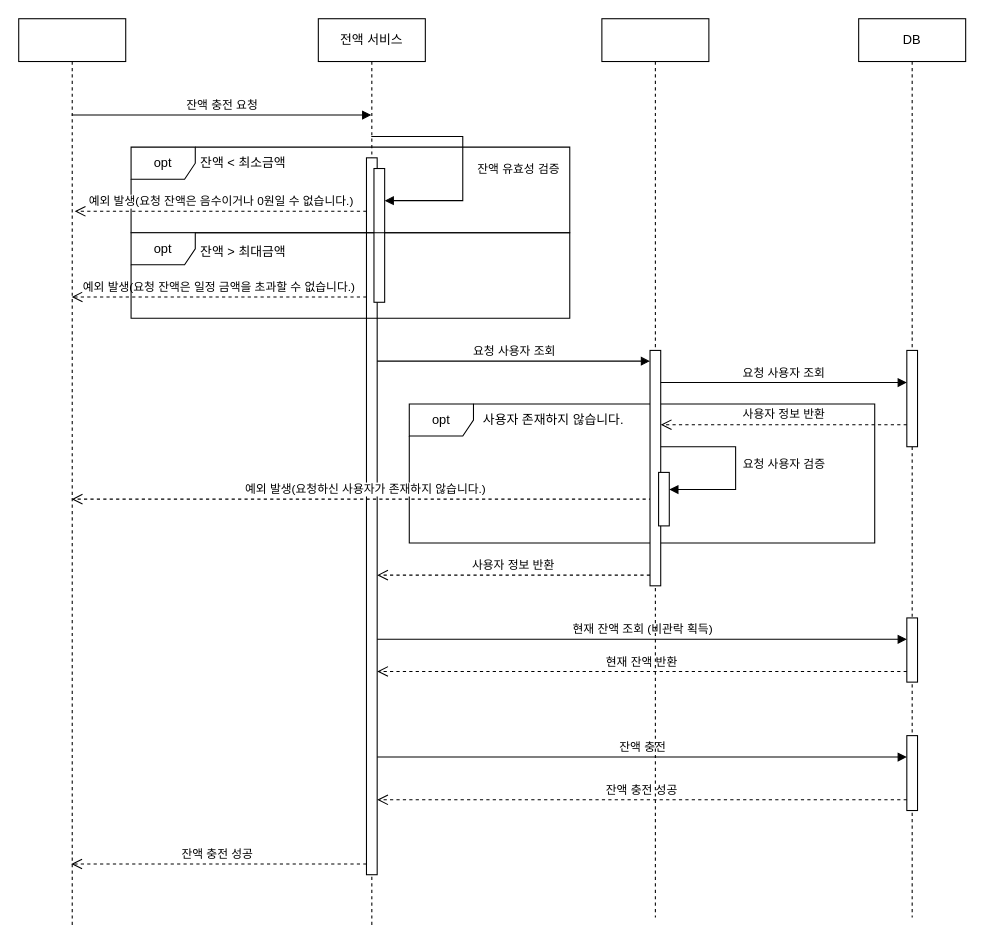
Some shapes in this 984 by 947 pixel diagram are drawn without their labels. Here are the shapes that lost their labels. From the top down, the box of each, then its label:
(18, 18, 126, 928): 사용자
(601, 18, 709, 918): 사용자 서비스
